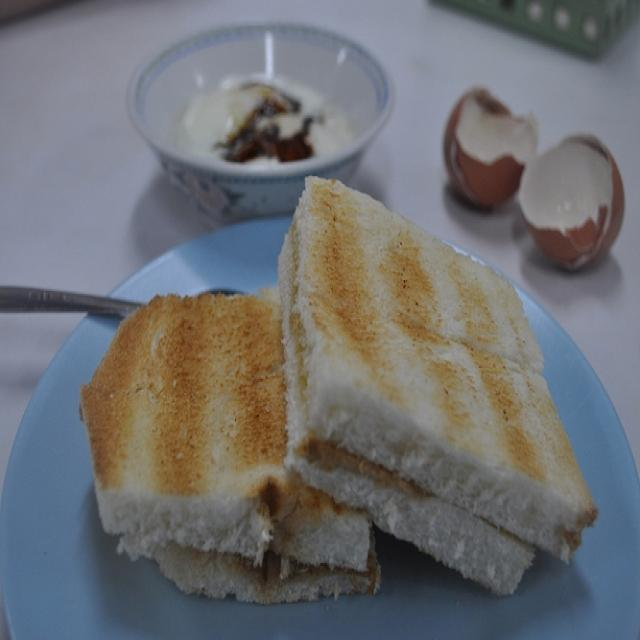面包点心: (64, 193, 595, 615)
